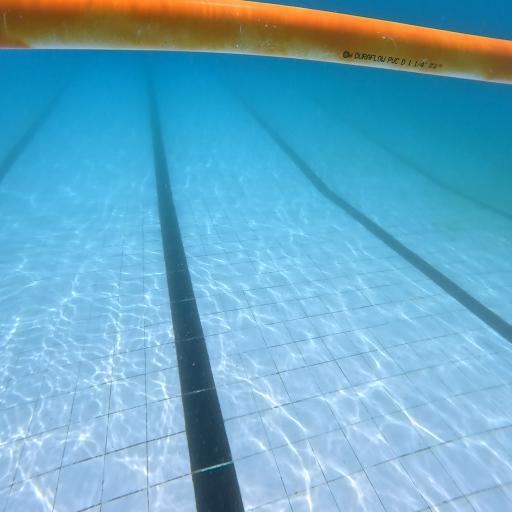upper_gate: (0, 0, 512, 84)
